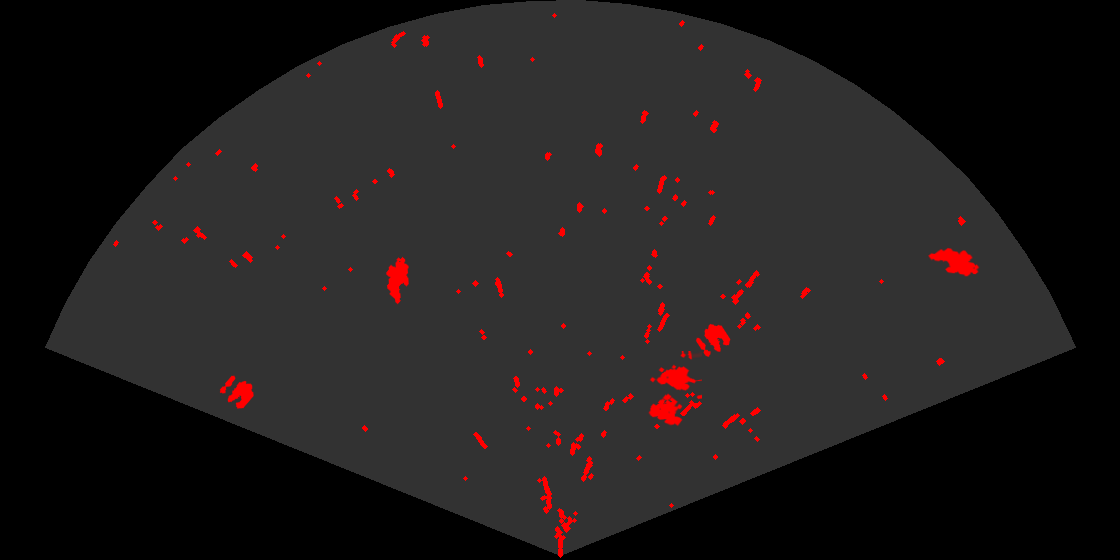AUV: (927, 246, 981, 278), (385, 255, 410, 306)
ball: (694, 322, 732, 359), (218, 374, 255, 410)
cage: (647, 351, 702, 428)
